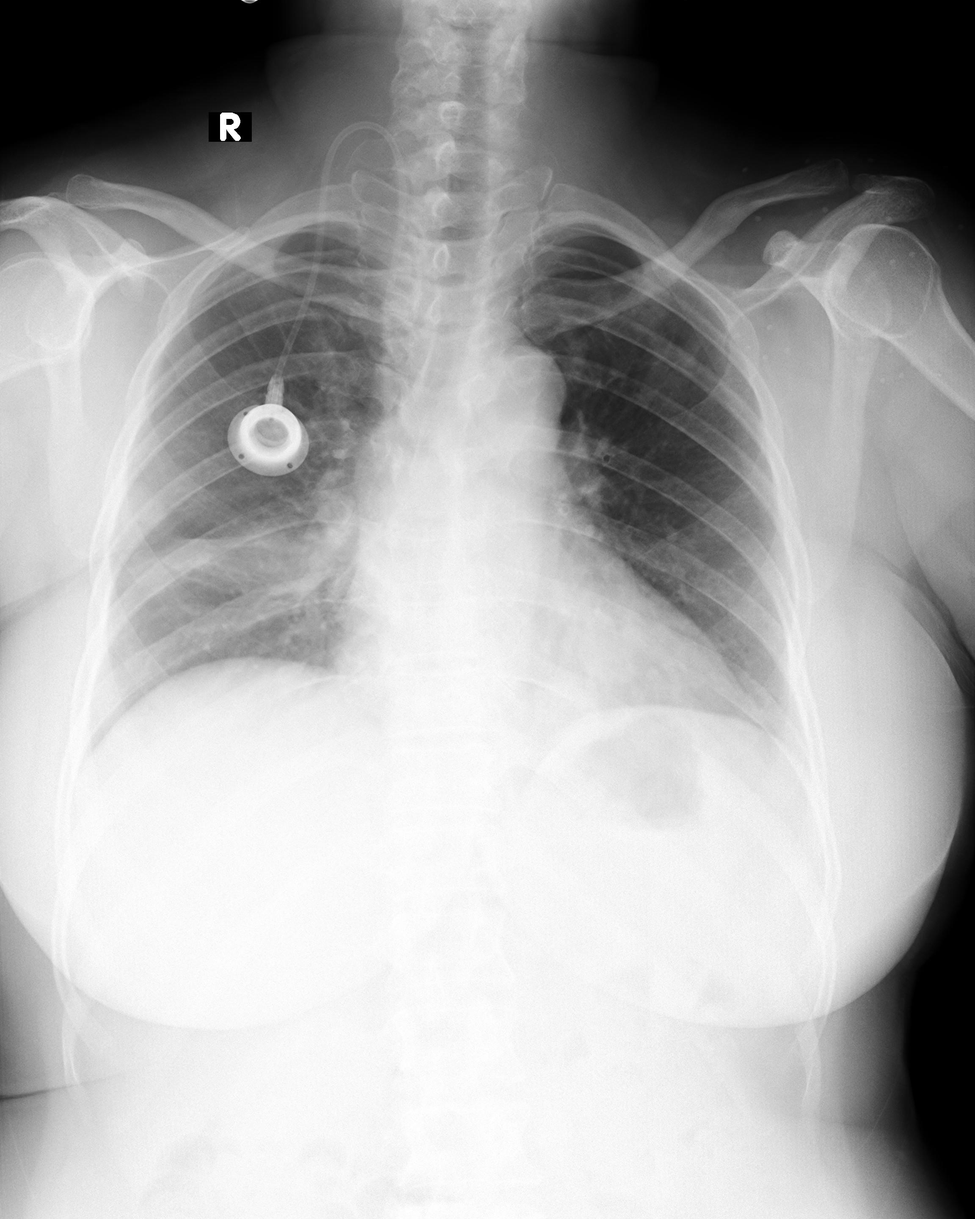Aortic enlargement: (471, 351, 567, 425)
Cardiomegaly: (328, 616, 755, 739)
